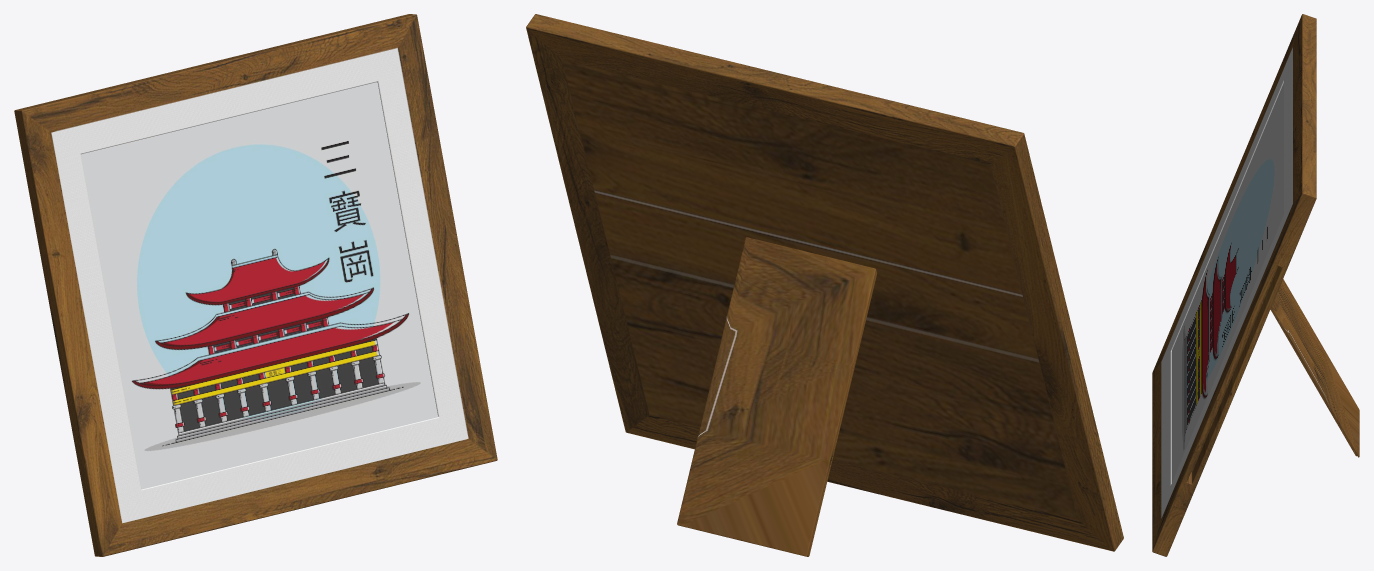
The model's file is FamilyPhoto.fbx.
3 renders of one model, left to right at view 1: azimuth 30°, elevation 25°; view 2: azimuth 150°, elevation 25°; view 3: azimuth 270°, elevation 25°, orthographic. The views are drawn at different scales.
Parts seen in each view (by area): view 1: Picture, Wood Photo Frame 2 Layer 80x80x3; view 2: Wood Photo Frame 2 Layer 80x80x3, Wood Photo Frame 2 Layer 80x80x3.001; view 3: Wood Photo Frame 2 Layer 80x80x3, Picture, Wood Photo Frame 2 Layer 80x80x3.001.
Part boxes in pixels (x1=…): Picture: x1=81, y1=82, x2=437, y2=488; Wood Photo Frame 2 Layer 80x80x3: x1=14, y1=14, x2=497, y2=556; Wood Photo Frame 2 Layer 80x80x3: x1=526, y1=14, x2=1123, y2=551; Wood Photo Frame 2 Layer 80x80x3.001: x1=677, y1=237, x2=877, y2=556; Wood Photo Frame 2 Layer 80x80x3: x1=1152, y1=14, x2=1316, y2=556; Picture: x1=1171, y1=83, x2=1283, y2=482; Wood Photo Frame 2 Layer 80x80x3.001: x1=1270, y1=279, x2=1359, y2=457.
Size of the model in its own units: 80 by 75.74 by 39.04.
